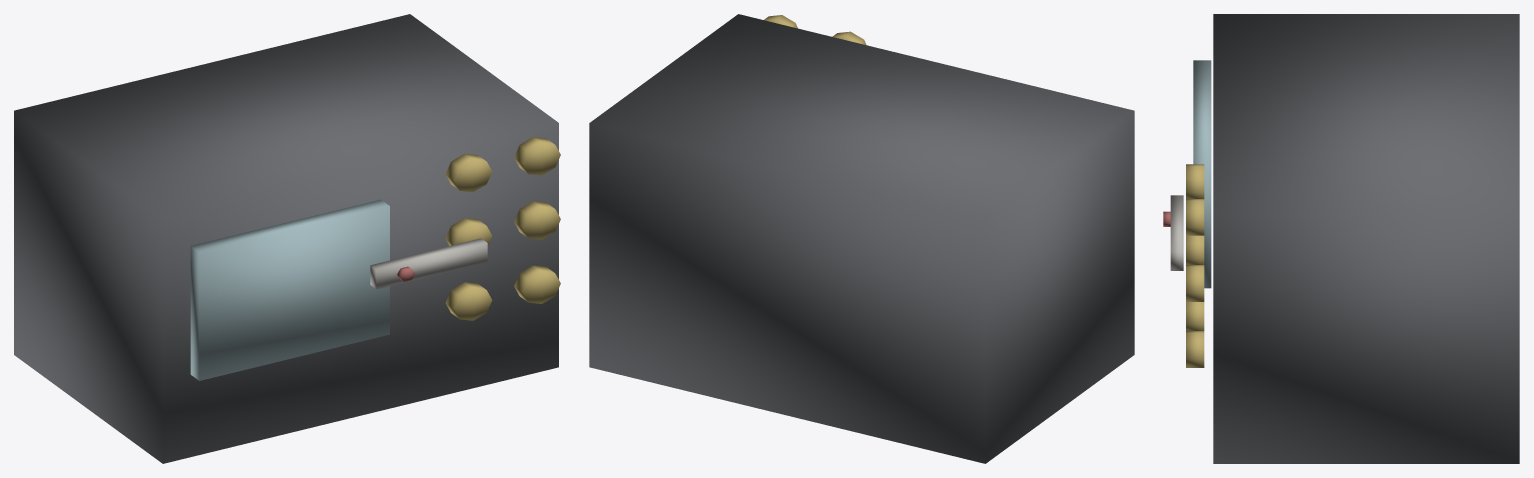
The model's file is oscilloscope__wide.glb.
3 views of the same model, side by side, from view 1: azimuth 30°, elevation 25°; view 2: azimuth 150°, elevation 25°; view 3: azimuth 270°, elevation 25° (orthographic). The views are drawn at different scales.
Parts seen in each view (by area): view 1: world; view 2: world; view 3: world.
Part boxes in pixels (bbox=[...]): world: bbox=[14, 14, 560, 463]; world: bbox=[589, 14, 1134, 463]; world: bbox=[1163, 14, 1519, 463].
Bounding box in the file's own units: 0.6448 × 0.38 × 0.4885.
